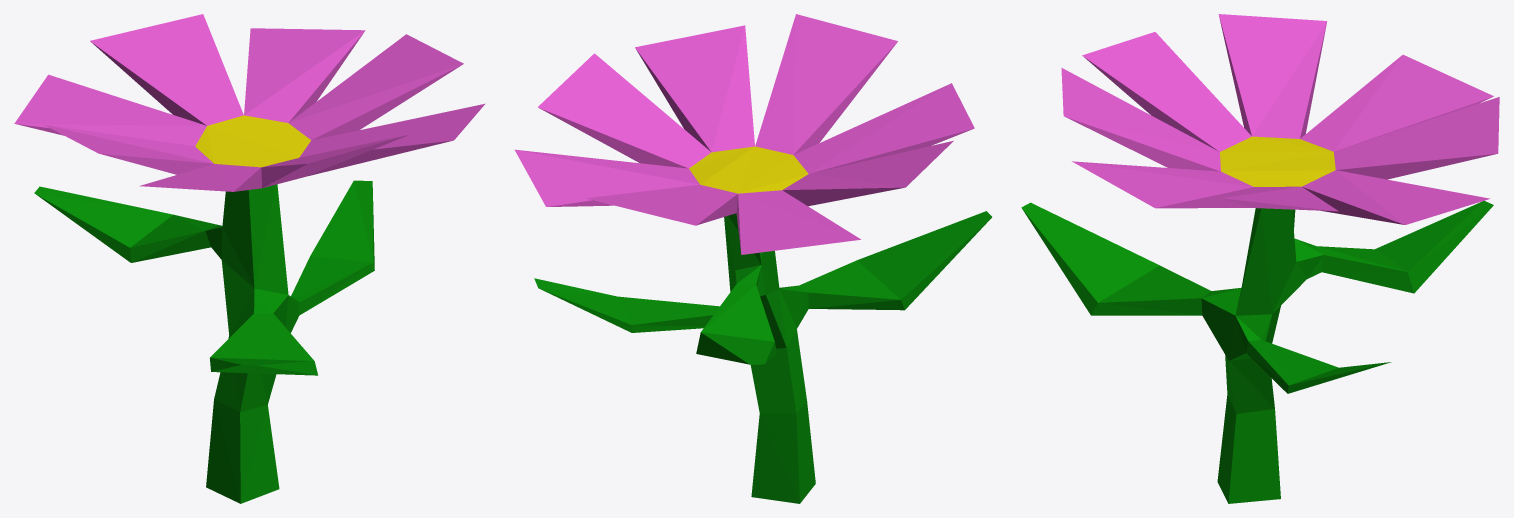
Rendered from Flower.fbx.
The picture shows the model from 3 angles, left to right: view 1: azimuth 30°, elevation 25°; view 2: azimuth 150°, elevation 25°; view 3: azimuth 270°, elevation 25°; orthographic projection. The views are drawn at different scales.
Visible parts, largest first — view 1: Plane; view 2: Plane; view 3: Plane.
Part boxes in pixels (x1,y1,x2,y2): Plane: (14, 14, 485, 503); Plane: (515, 14, 991, 503); Plane: (1021, 14, 1499, 503).
Size of the model in its own units: 38.99 by 40.42 by 42.38.
